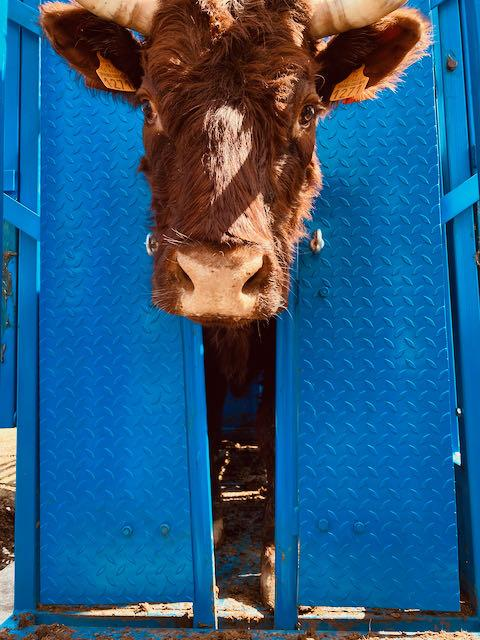muzzles: (138, 238, 300, 331)
